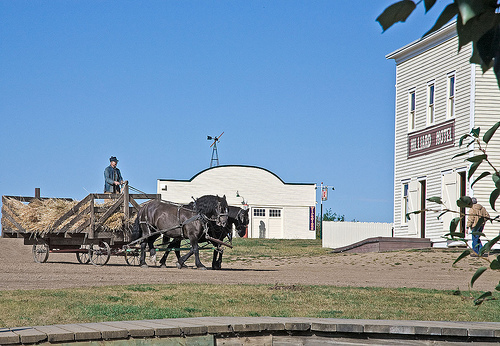horse: (133, 195, 229, 270), (159, 202, 250, 269)
